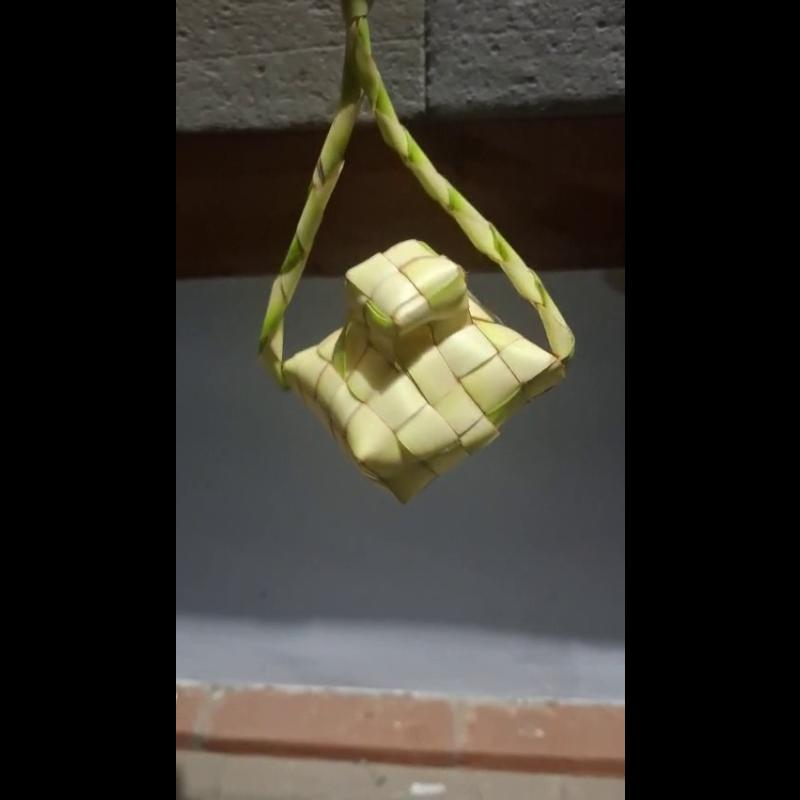Tipat Gong: (259, 0, 583, 515)
